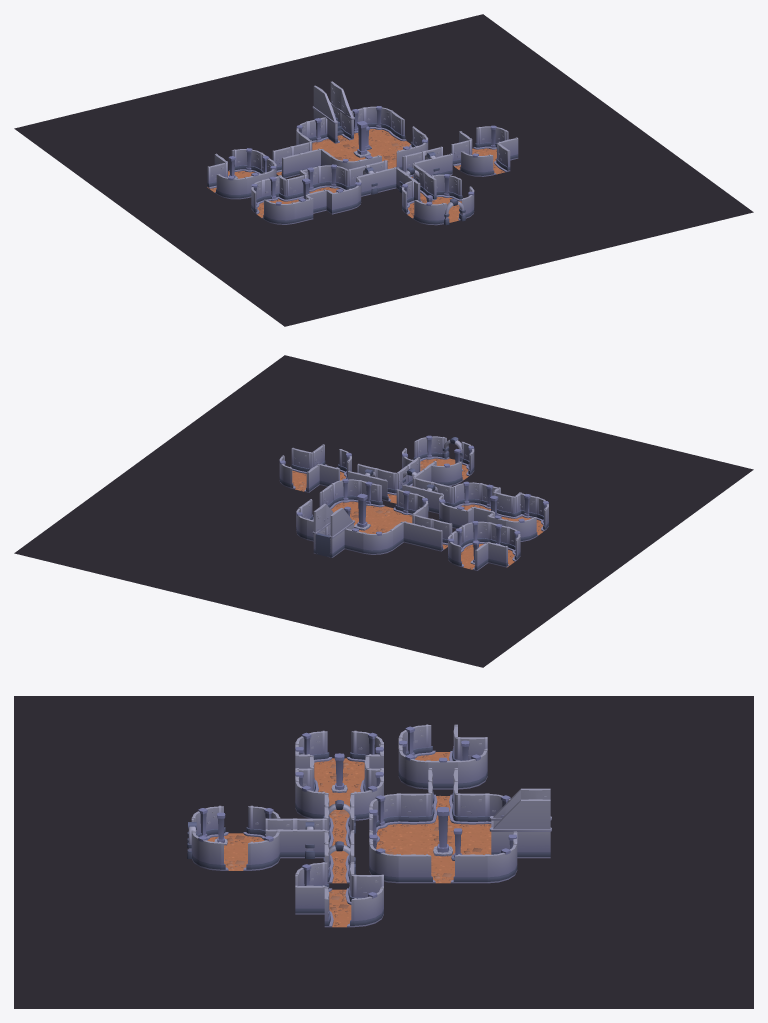
The model's file is Dungeon.glb.
The picture shows the model from 3 angles, top to bottom: view 1: azimuth 30°, elevation 25°; view 2: azimuth 150°, elevation 25°; view 3: azimuth 270°, elevation 25°; orthographic projection. The views are drawn at different scales.
Parts seen in each view (by area): view 1: bedrock, treasury, great-room, corridor (×5), cell, gallery, entrance-hall, stairs-down; view 2: bedrock, great-room, treasury, gallery, cell, entrance-hall, corridor (×3), stairs-down; view 3: bedrock, great-room, treasury, entrance-hall, gallery, cell, stairs-down, corridor (×3), centre-pillar.
Part boxes in pixels (x1,y1,x2,y2): bedrock: [14, 14, 753, 326]; treasury: [251, 164, 361, 224]; great-room: [296, 106, 428, 169]; corridor (×5): [272, 141, 436, 202]; cell: [451, 125, 518, 176]; gallery: [207, 148, 276, 199]; entrance-hall: [402, 174, 474, 225]; stairs-down: [312, 81, 354, 143]; bedrock: [14, 355, 753, 667]; great-room: [296, 478, 428, 554]; treasury: [439, 481, 548, 541]; gallery: [448, 521, 520, 570]; cell: [279, 444, 351, 492]; entrance-hall: [402, 435, 474, 486]; corridor (×3): [403, 482, 452, 551]; stairs-down: [312, 503, 354, 557]; bedrock: [14, 696, 753, 1008]; great-room: [369, 793, 517, 883]; treasury: [295, 730, 383, 820]; entrance-hall: [191, 805, 280, 870]; gallery: [398, 724, 487, 789]; cell: [295, 862, 383, 927]; stairs-down: [489, 788, 551, 858]; corridor (×3): [265, 818, 354, 883]; centre-pillar: [433, 807, 452, 856].
Size of the model in its own units: 100 by 8.6 by 100.
Materials: 2 (1 with a texture image).
